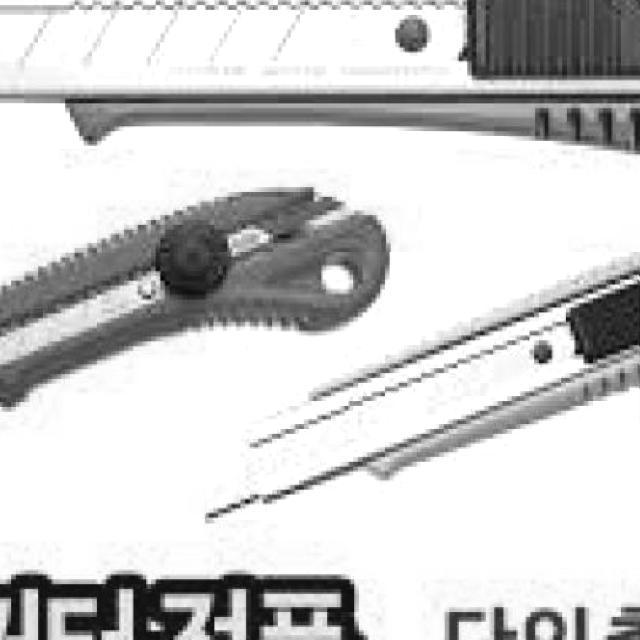estilete: (207, 253, 639, 520), (0, 188, 389, 405)
